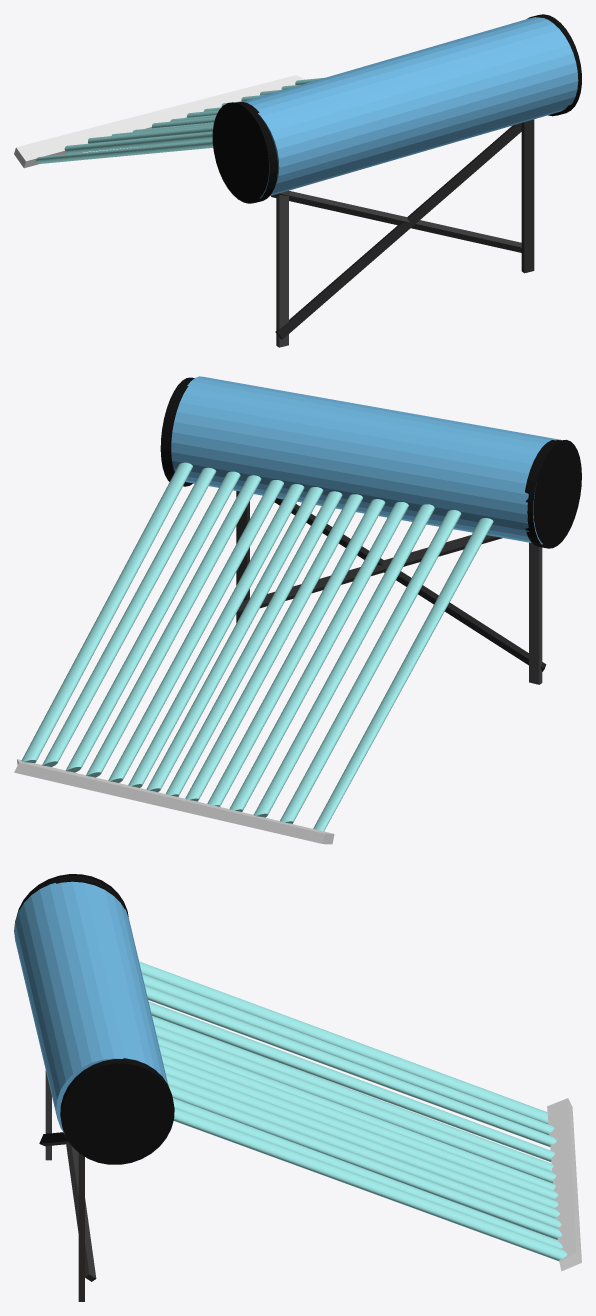
Rendered from Solar Heater4.gltf.
3 renders of one model, top to bottom at view 1: azimuth 30°, elevation 25°; view 2: azimuth 150°, elevation 25°; view 3: azimuth 270°, elevation 25°, orthographic. The views are drawn at different scales.
Visible parts, largest first — view 1: Cube.001, Cube.010, Cube.002, Cube.004, Cube.006, Cube.003, Cube.005, Cube.023, Cube.015, Cube.022, Cube.014, Cube.024; view 2: Cube.001, Cube.010, Cube.011, Cube.012, Cube.015, Cube.017, Cube.019, Cube.002, Cube.020, Cube.014, Cube.016, Cube.018 (+7 smaller); view 3: Cube.011, Cube.001, Cube.010, Cube.007, Cube.012, Cube.019, Cube.015, Cube.017, Cube.020, Cube.014, Cube.016, Cube.018 (+3 smaller).
Part boxes in pixels (<box>): Cube.001: <box>14,14,581,347</box>; Cube.010: <box>243,17,575,149</box>; Cube.002: <box>212,102,268,202</box>; Cube.004: <box>277,123,521,338</box>; Cube.006: <box>524,119,534,273</box>; Cube.003: <box>279,190,288,347</box>; Cube.005: <box>272,193,521,252</box>; Cube.023: <box>280,191,521,247</box>; Cube.015: <box>64,131,212,150</box>; Cube.022: <box>521,122,524,272</box>; Cube.014: <box>88,126,213,142</box>; Cube.024: <box>275,125,514,331</box>; Cube.001: <box>14,377,574,844</box>; Cube.010: <box>172,376,558,494</box>; Cube.011: <box>42,467,483,829</box>; Cube.012: <box>65,472,275,781</box>; Cube.015: <box>281,510,461,822</box>; Cube.017: <box>208,499,385,805</box>; Cube.019: <box>166,491,342,795</box>; Cube.002: <box>533,439,581,546</box>; Cube.020: <box>147,487,322,790</box>; Cube.014: <box>256,504,434,815</box>; Cube.016: <box>232,502,408,810</box>; Cube.018: <box>190,494,362,799</box>; Cube.011: <box>140,965,562,1248</box>; Cube.001: <box>14,876,581,1301</box>; Cube.010: <box>18,881,166,1089</box>; Cube.007: <box>61,1063,174,1164</box>; Cube.012: <box>164,1066,562,1237</box>; Cube.019: <box>157,1037,555,1189</box>; Cube.015: <box>142,974,554,1130</box>; Cube.017: <box>152,1015,553,1168</box>; Cube.020: <box>159,1044,558,1196</box>; Cube.014: <box>145,985,556,1140</box>; Cube.016: <box>149,1001,554,1154</box>; Cube.018: <box>154,1025,555,1174</box>.
Bounding box in the file's own units: 8.03 × 5.4 × 10.4.
